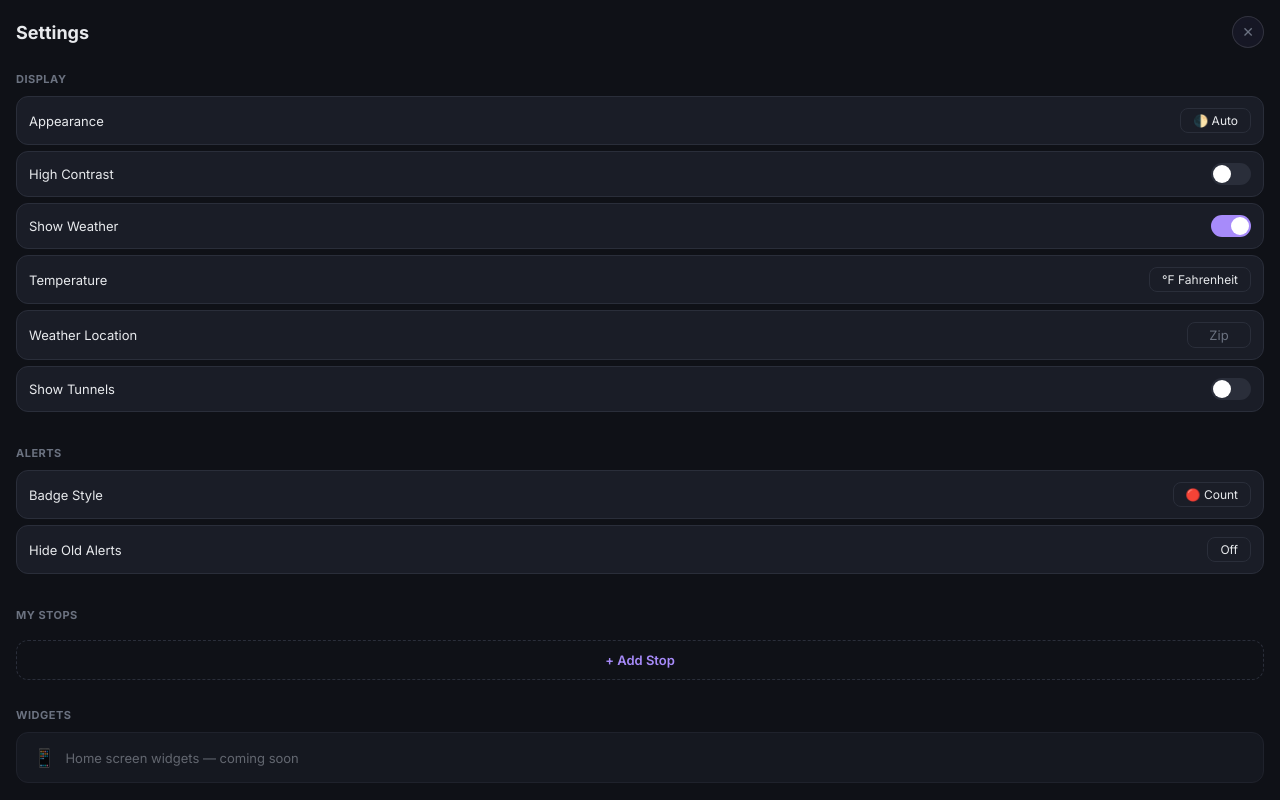
Test: Weather zip code › shows confirm button when valid zip typed
The image size is (1280, 800).
In the field with placeholder "Zip": (1219, 335) x1=1187 y1=322 x2=1251 y2=348, type "10001"
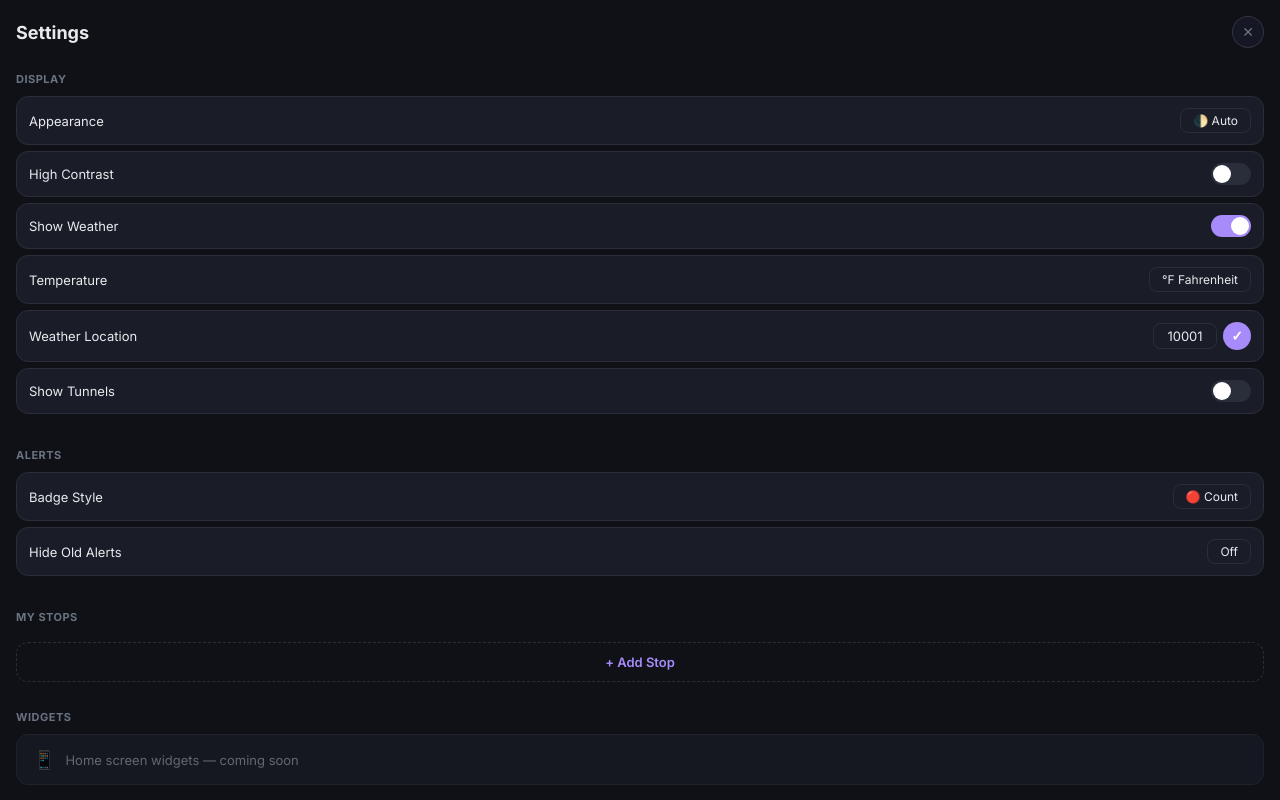
Expected: the button "✓" is shown, x1=1223 y1=322 x2=1251 y2=350
